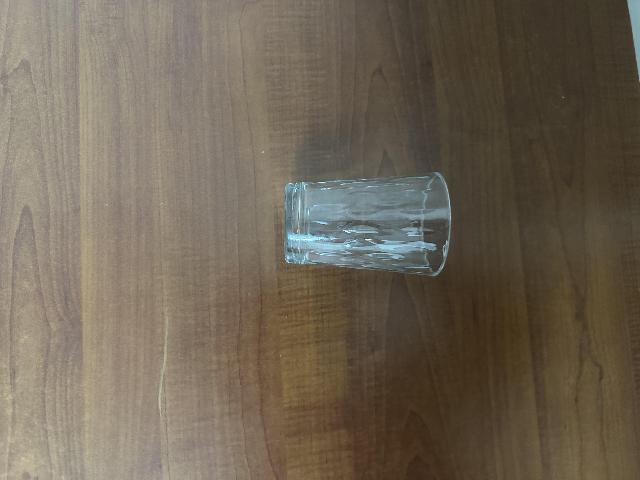Cam: (283, 170, 453, 279)
